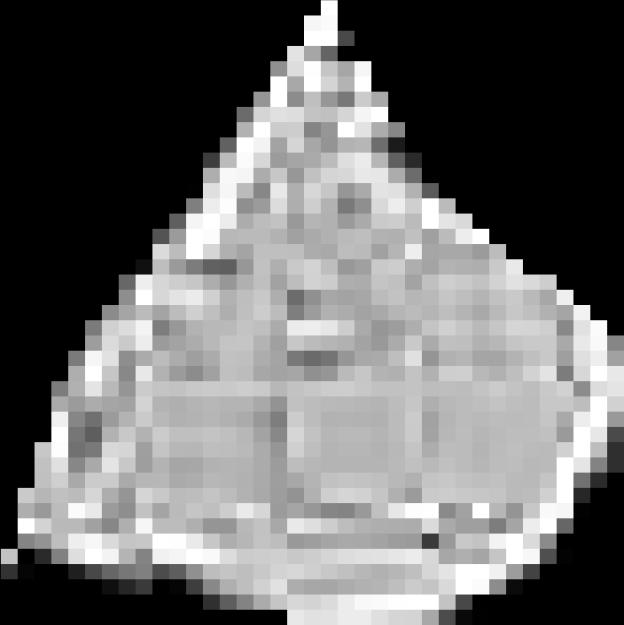tumor_good_chance: (1, 0, 624, 625)
